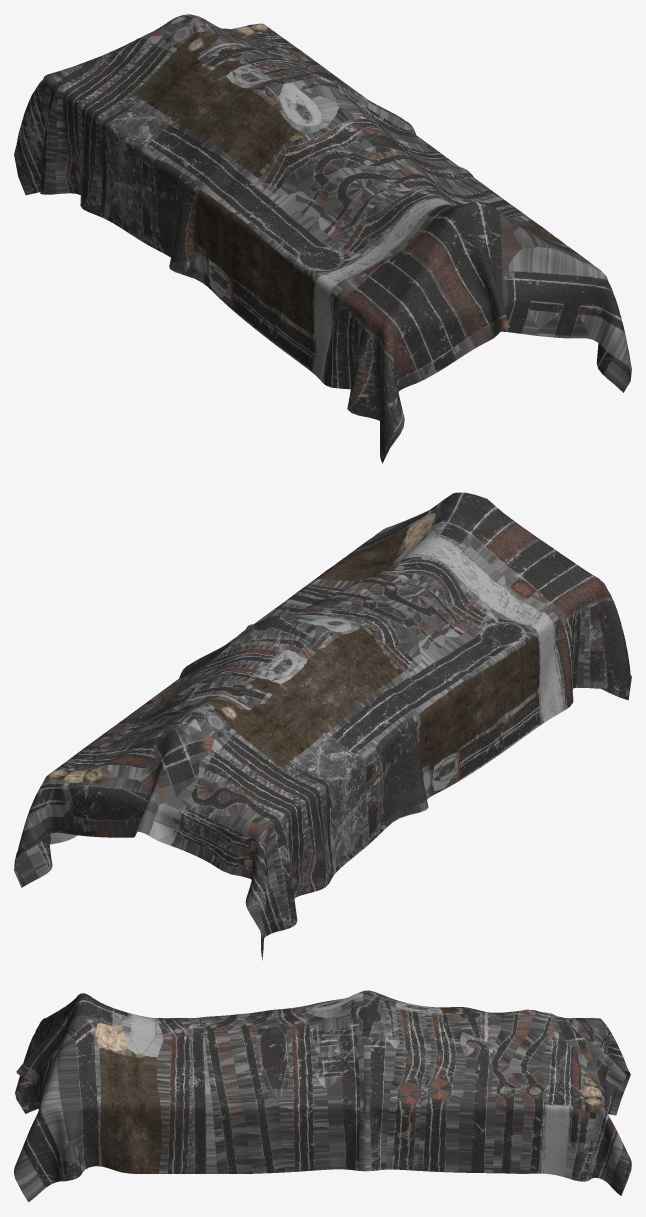
Rendered from xacchet.fbx.
3 views of the same model, one above another, from view 1: azimuth 30°, elevation 25°; view 2: azimuth 150°, elevation 25°; view 3: azimuth 270°, elevation 25° (orthographic). The views are drawn at different scales.
Parts seen in each view (by area): view 1: defaultobject; view 2: defaultobject; view 3: defaultobject.
Boxes of the visible parts, left/top/right/bottom form: defaultobject: left=14, top=14, right=631, bottom=463; defaultobject: left=14, top=492, right=631, bottom=960; defaultobject: left=14, top=990, right=631, bottom=1202.
Bounding box in the file's own units: 6590 × 4824 × 16312.
